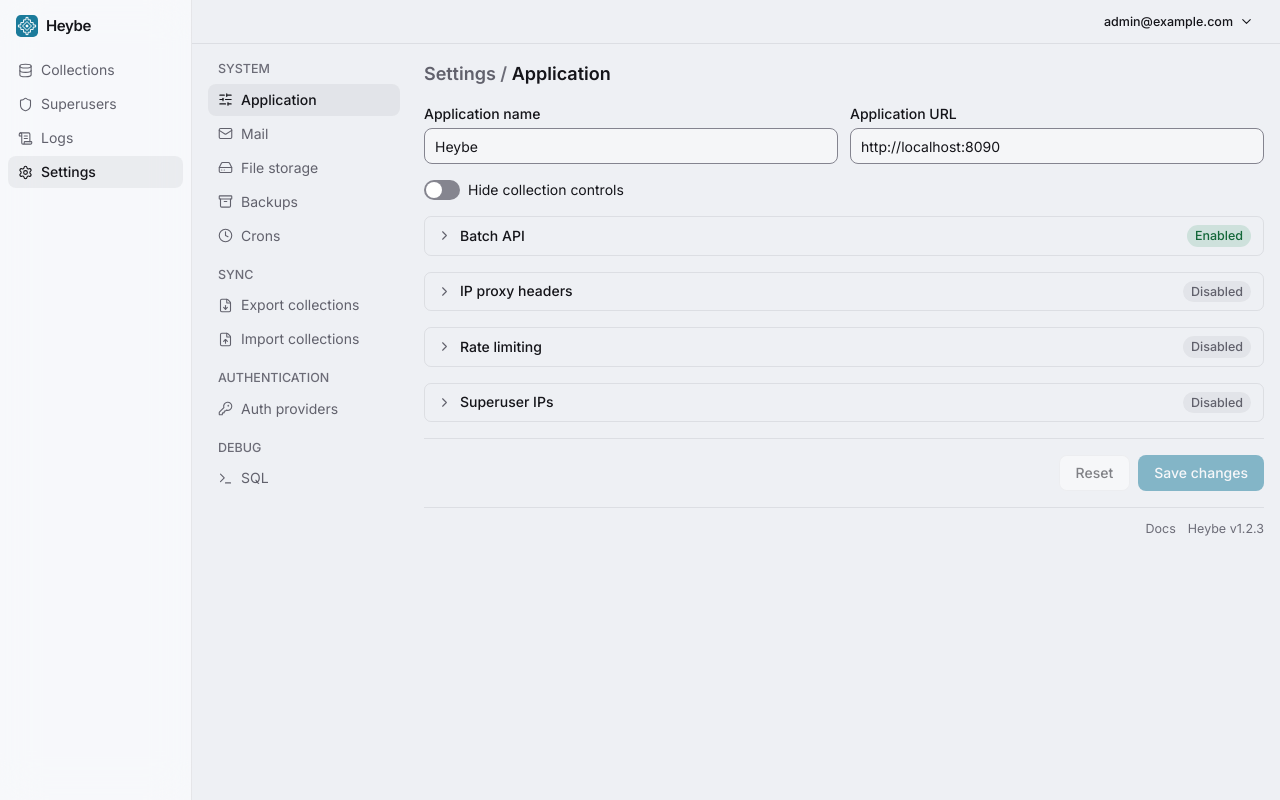
saving the app name PATCHes only meta
Replace the text in the field labelled "Application name" with "Acme" at (631, 146), box [424,128,838,164]
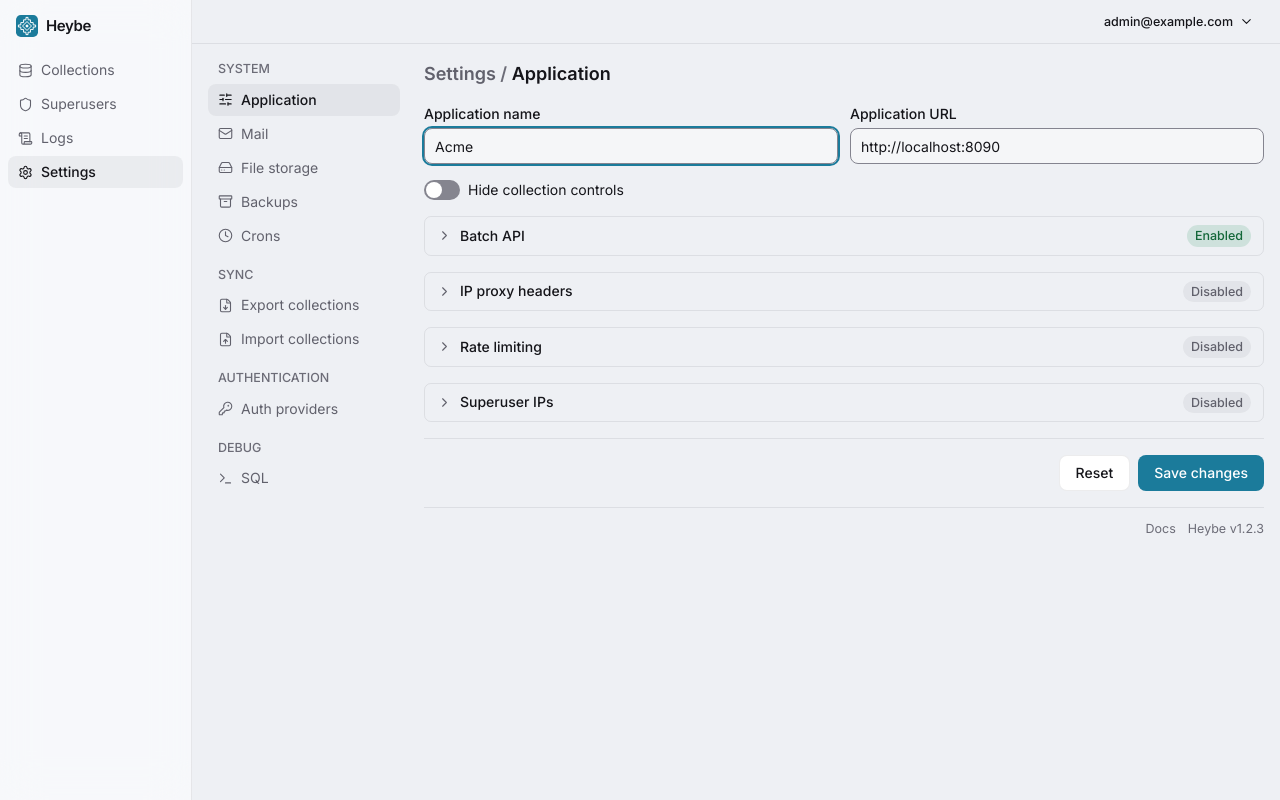
Click the button "Save changes" at (1201, 473), box [1138,455,1264,491]
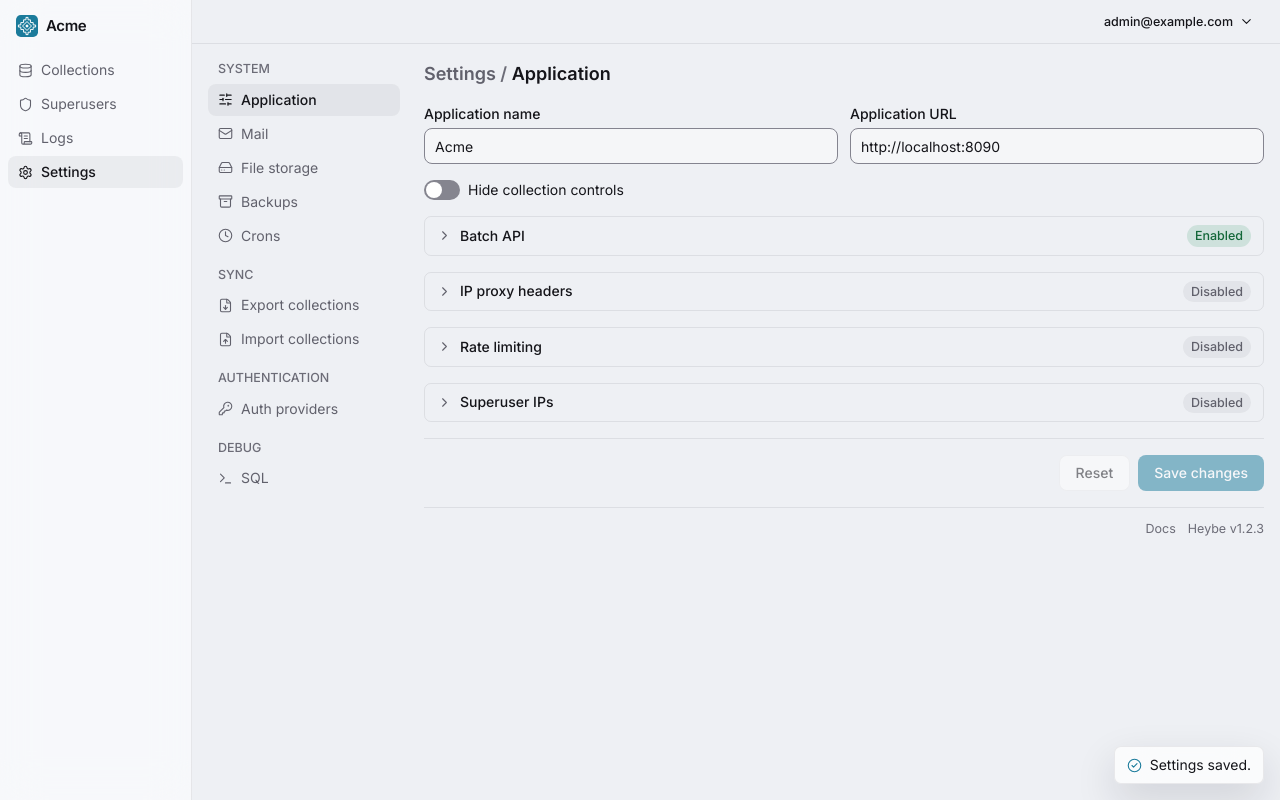
Now the text "Settings saved." is shown, box [1114,746,1264,784]
